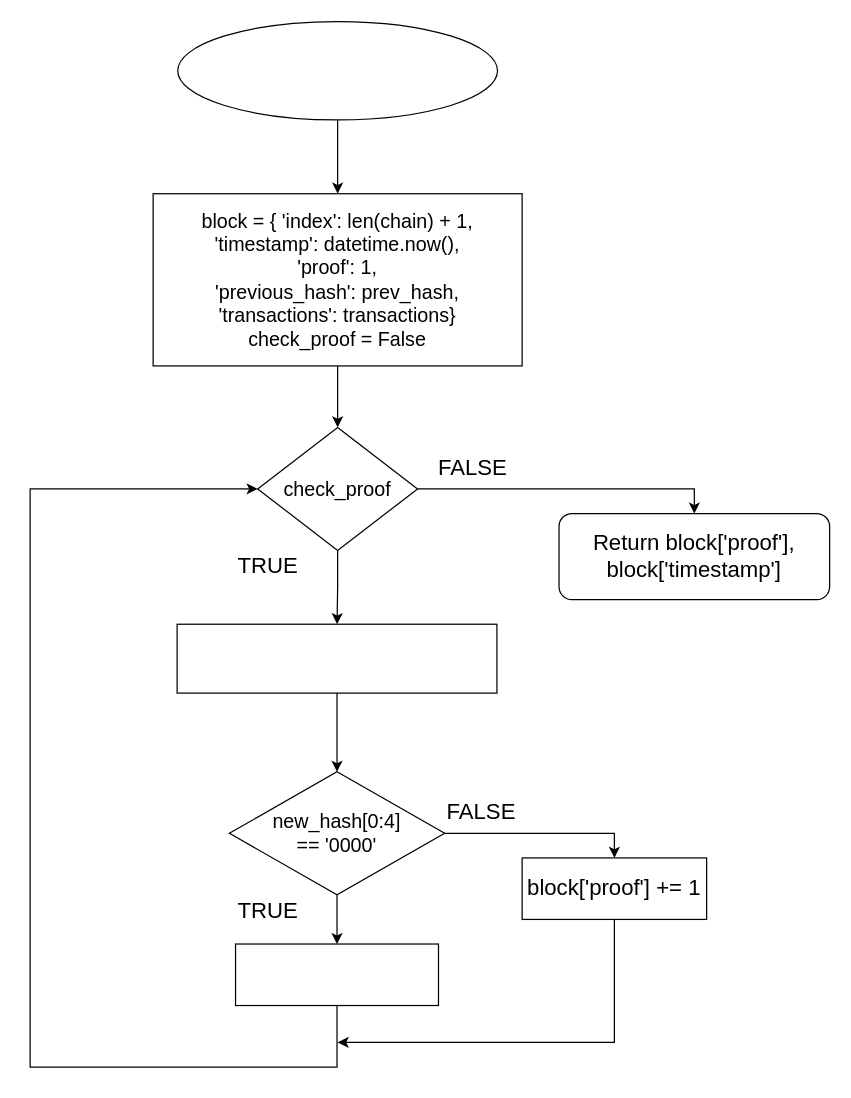
Some shapes in this 851 by 1098 pixel diagram are drawn without their labels. The centre of each missing label's shape, as x and y in pixels:
"check_proof = True" belongs at (x=336, y=974).
"new_hash = hash(block)" belongs at (x=336, y=658).
"proof_of_work(prev_hash, prev_proof)" belongs at (x=337, y=70).
